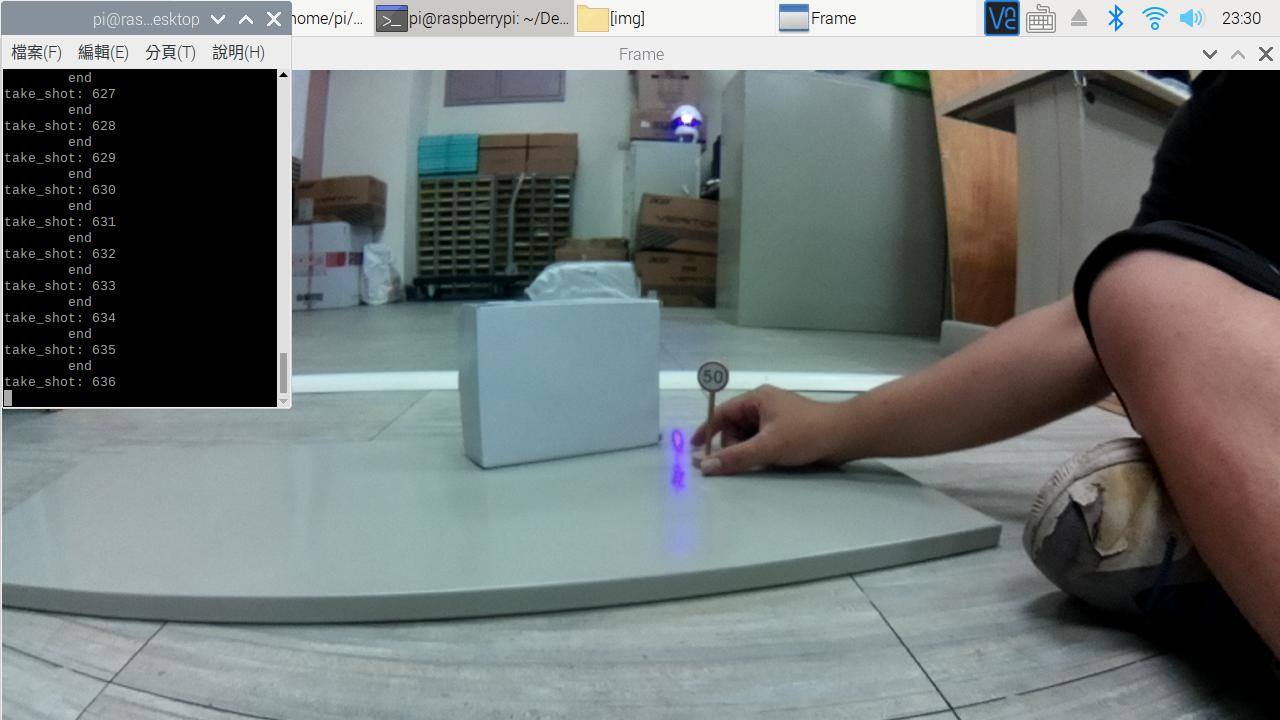Speed50: (686, 352, 730, 400)
